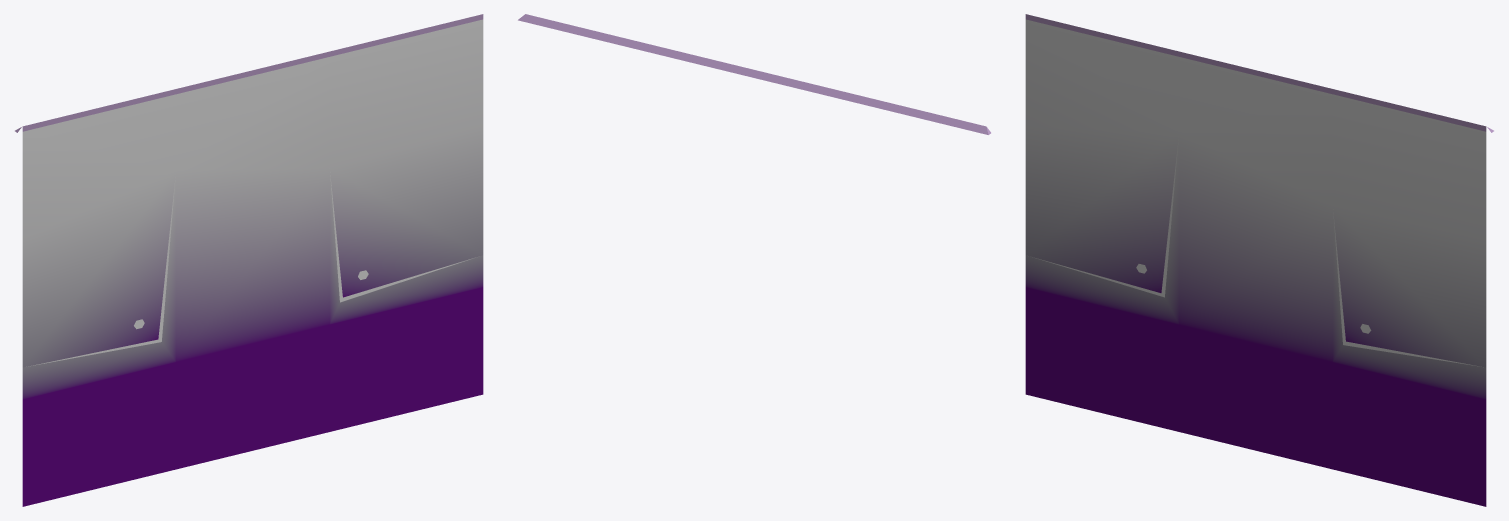
The model's file is Lane-factory_gap_start.glb.
3 views of the same model, side by side, from view 1: azimuth 30°, elevation 25°; view 2: azimuth 150°, elevation 25°; view 3: azimuth 330°, elevation 25° (orthographic).
Visible parts, largest first — view 1: Lane-factory_gap_start; view 2: Lane-factory_gap_start; view 3: Lane-factory_gap_start.
Boxes of the visible parts, x1,y1,x2,y2 form: Lane-factory_gap_start: (15,14,483,506); Lane-factory_gap_start: (518,14,990,134); Lane-factory_gap_start: (1025,14,1493,506).
Size of the model in its own units: 9.2 by 7.1 by 0.11.
